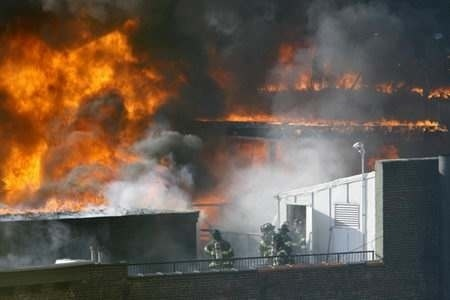fire: (0, 19, 165, 215)
